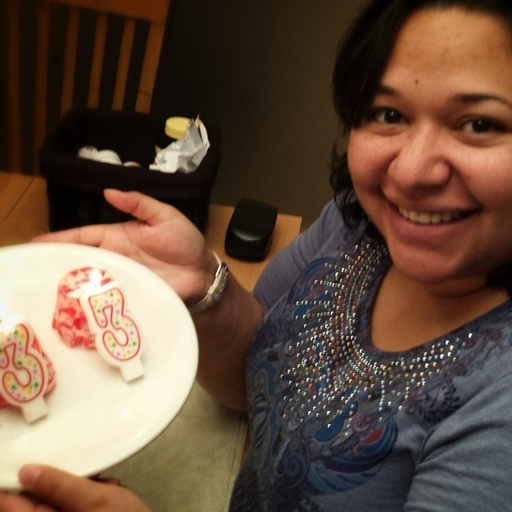hand: (56, 173, 262, 305), (0, 460, 152, 511)
